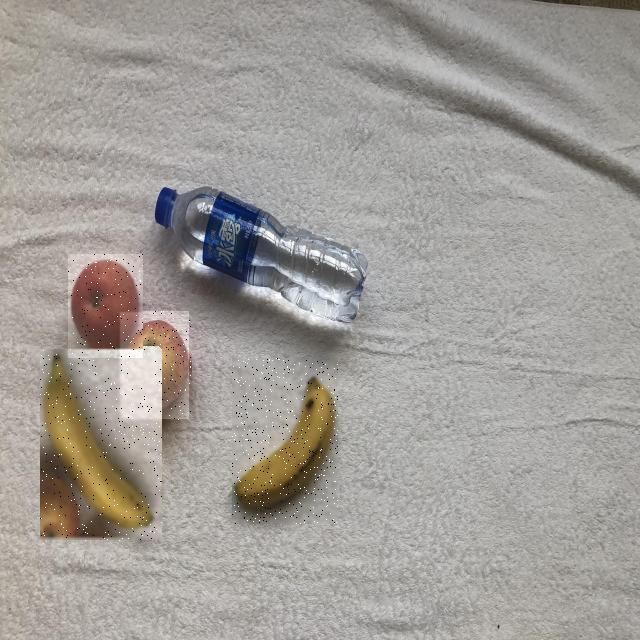Apple: (120, 312, 192, 422), (68, 254, 143, 358)
Banana: (40, 350, 162, 542), (232, 358, 338, 524)
